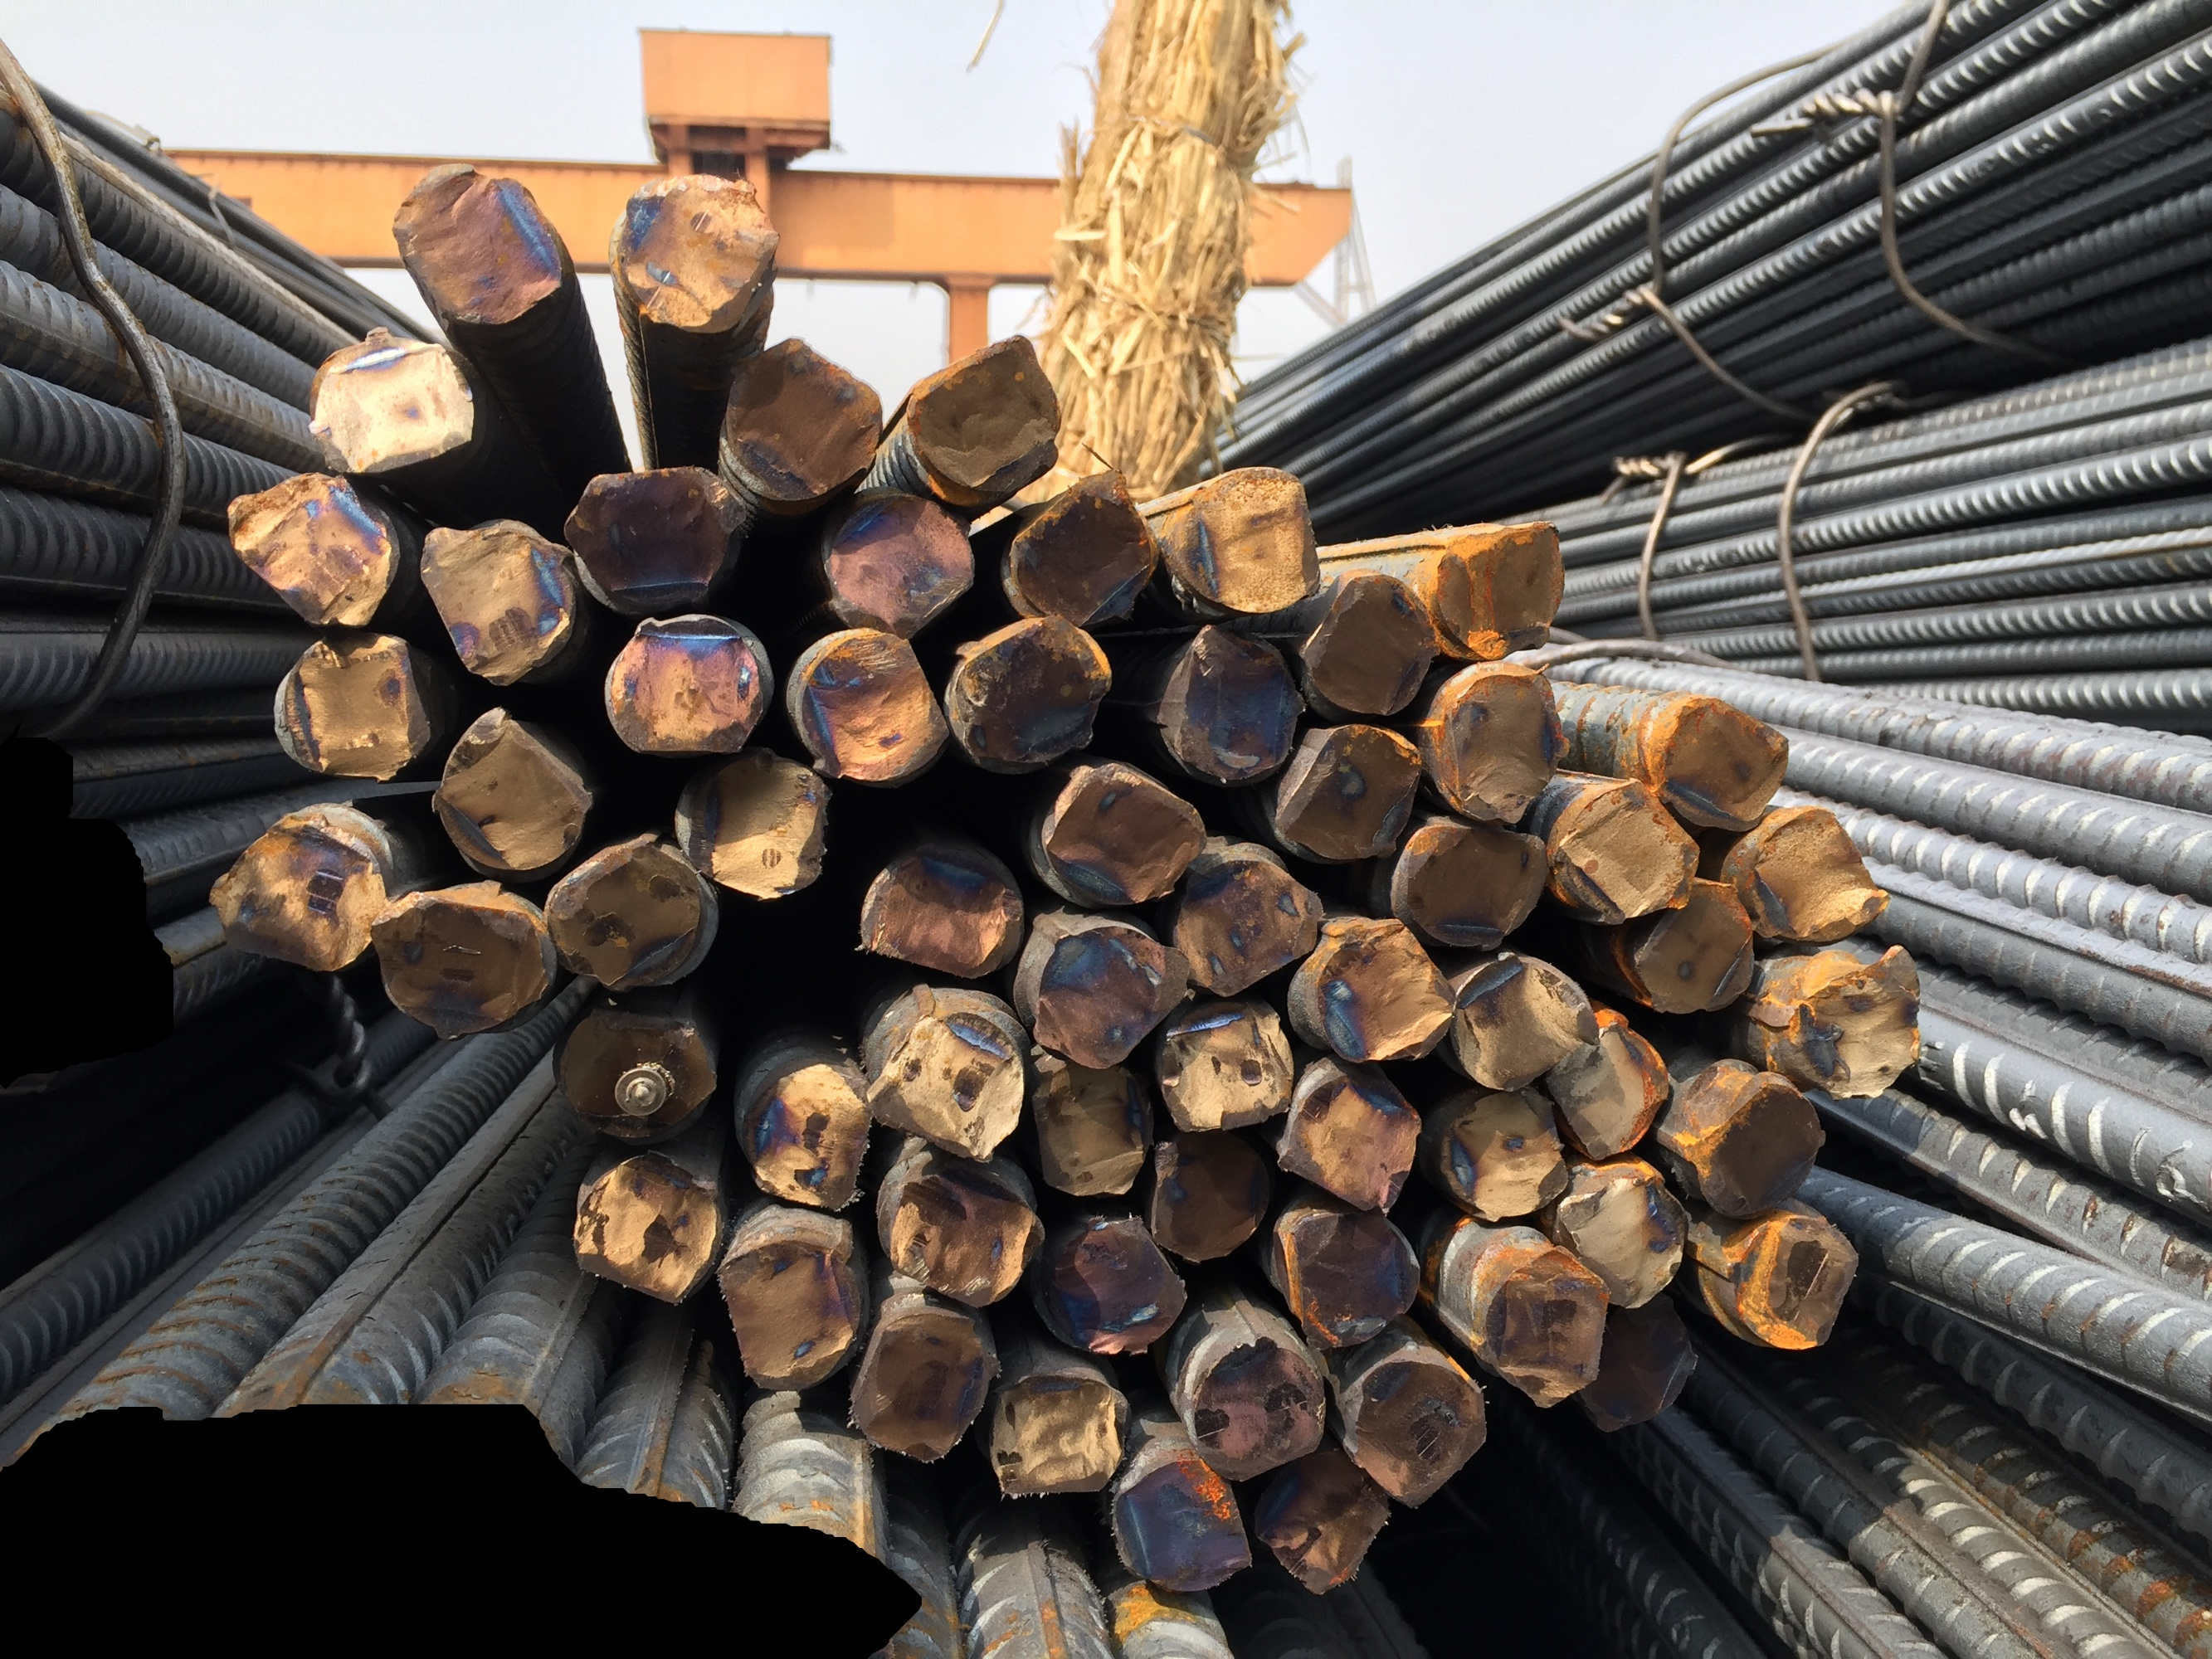rebar: (385, 159, 579, 333), (603, 167, 790, 342), (220, 464, 408, 636), (202, 812, 396, 978), (554, 455, 744, 622), (424, 704, 600, 882), (938, 605, 1117, 779), (995, 458, 1170, 636), (716, 331, 891, 507), (537, 835, 722, 1000), (366, 878, 553, 1042), (410, 514, 579, 692), (903, 328, 1070, 502), (671, 741, 847, 906), (840, 1300, 1009, 1471), (303, 322, 485, 481), (565, 1143, 732, 1314), (1020, 917, 1198, 1077), (863, 1000, 1032, 1168), (267, 622, 438, 786), (1150, 620, 1314, 791), (594, 606, 774, 762), (1035, 760, 1217, 911), (1769, 938, 1933, 1105), (814, 488, 985, 648), (793, 622, 955, 789), (547, 1000, 725, 1150), (1166, 457, 1327, 622), (882, 1155, 1048, 1316), (709, 1232, 866, 1401), (1544, 772, 1708, 932), (1442, 943, 1609, 1100), (847, 836, 1028, 981), (1307, 910, 1466, 1072), (1731, 802, 1902, 951), (1164, 850, 1330, 1004), (1271, 1060, 1428, 1218), (1245, 1441, 1400, 1600), (1344, 1351, 1496, 1513), (1269, 718, 1431, 870), (1672, 1075, 1837, 1223), (1290, 566, 1445, 723), (1037, 1209, 1196, 1363), (1605, 868, 1766, 1019), (737, 1051, 882, 1218), (1271, 1199, 1426, 1354), (1539, 1168, 1698, 1319), (1103, 1450, 1262, 1600), (1478, 1243, 1616, 1413), (1435, 662, 1574, 829), (1185, 1331, 1333, 1485), (1558, 1288, 1706, 1439), (1539, 1009, 1679, 1169), (1647, 692, 1797, 840), (1025, 1051, 1164, 1206), (1398, 817, 1555, 955), (1428, 518, 1574, 664), (1149, 1002, 1300, 1141), (1431, 1080, 1574, 1227), (981, 1364, 1131, 1504), (1727, 1209, 1867, 1356), (1145, 1117, 1279, 1269)
